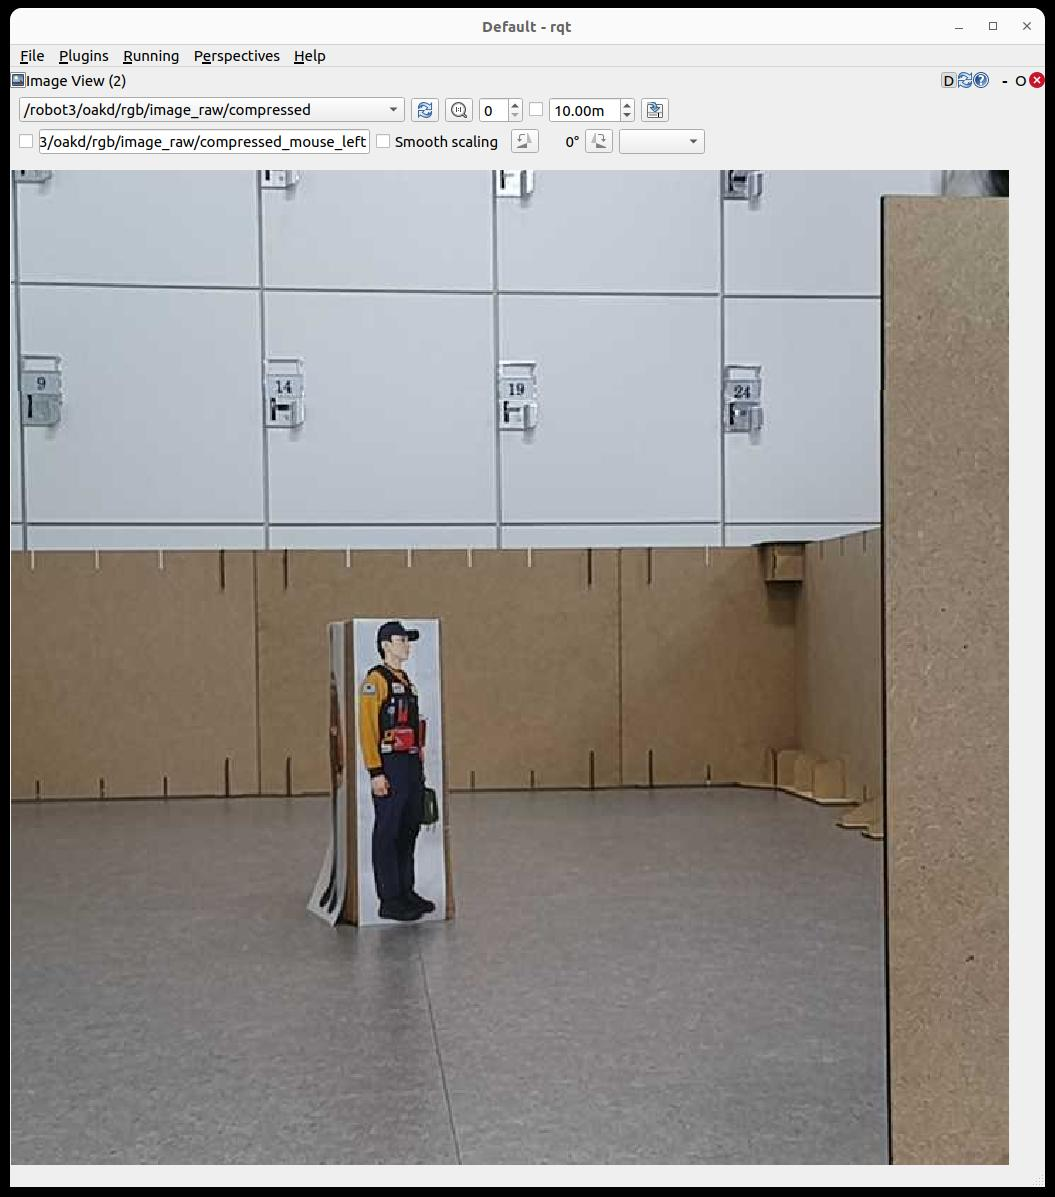Responder: (358, 621, 437, 921)
